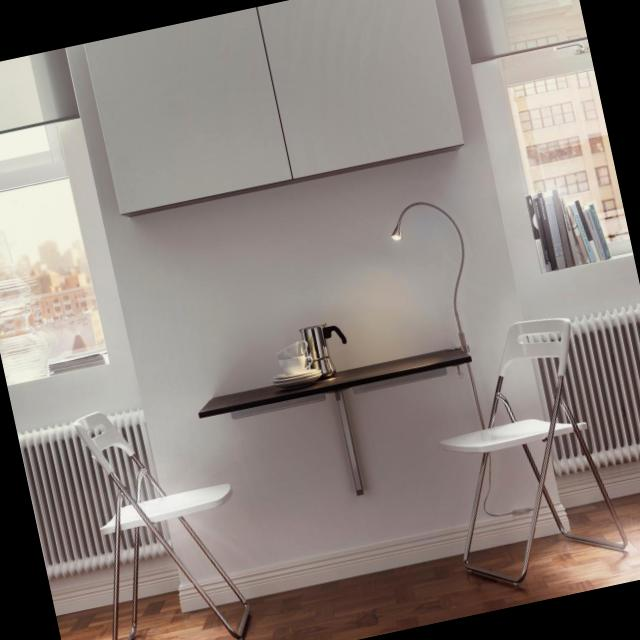obstacle: (410, 304, 634, 597), (56, 382, 269, 640)
